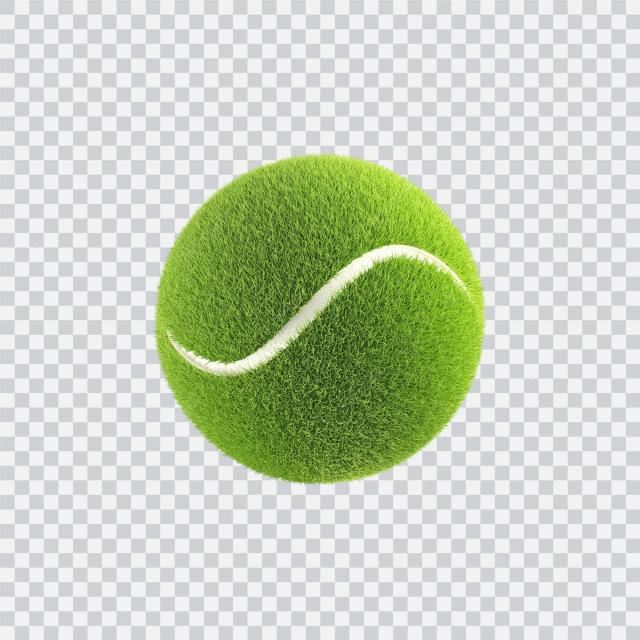ball: (148, 146, 498, 493)
